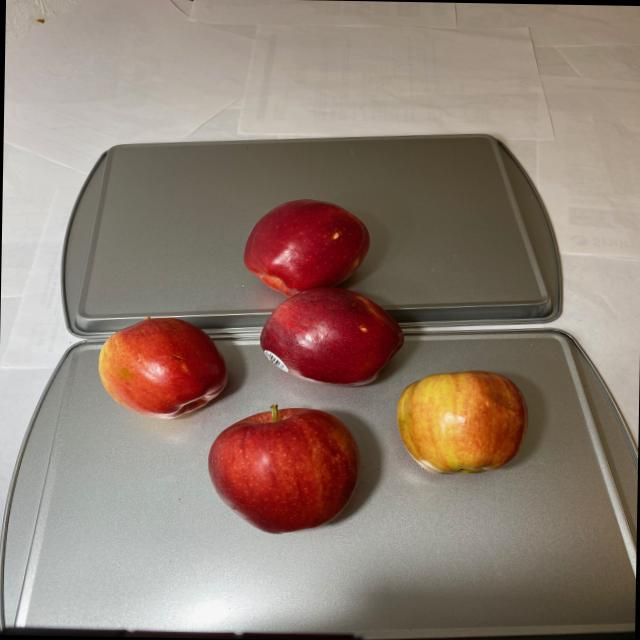apple: (90, 198, 530, 539)
